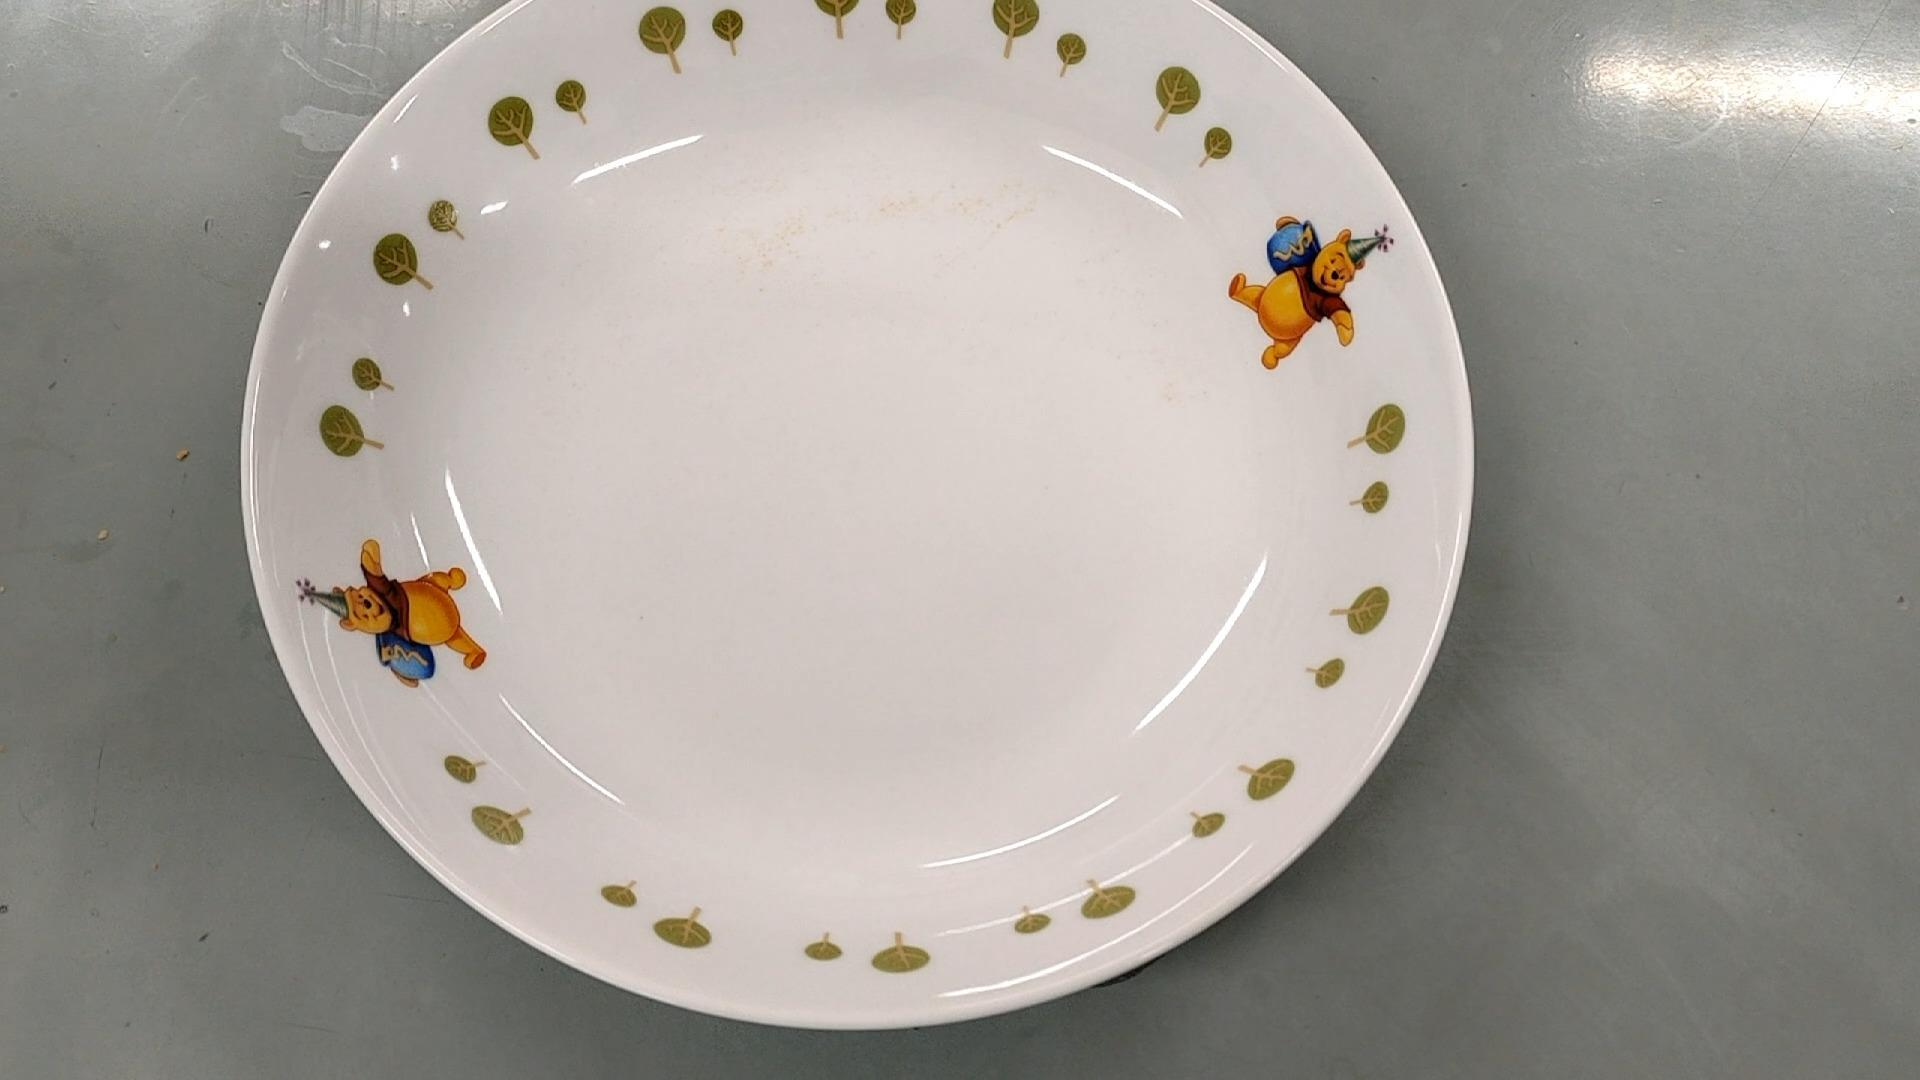plate: (237, 0, 1477, 1034)
